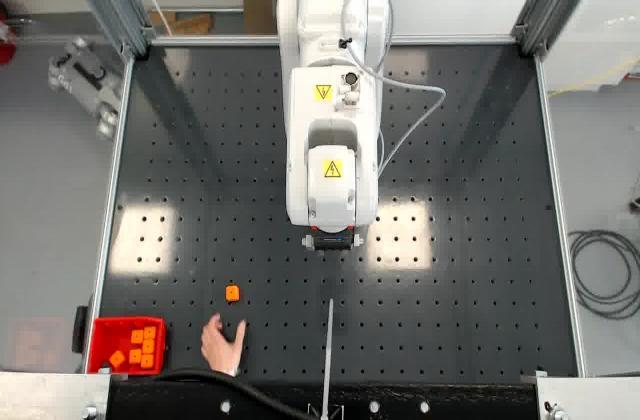cube: (224, 284, 241, 302)
